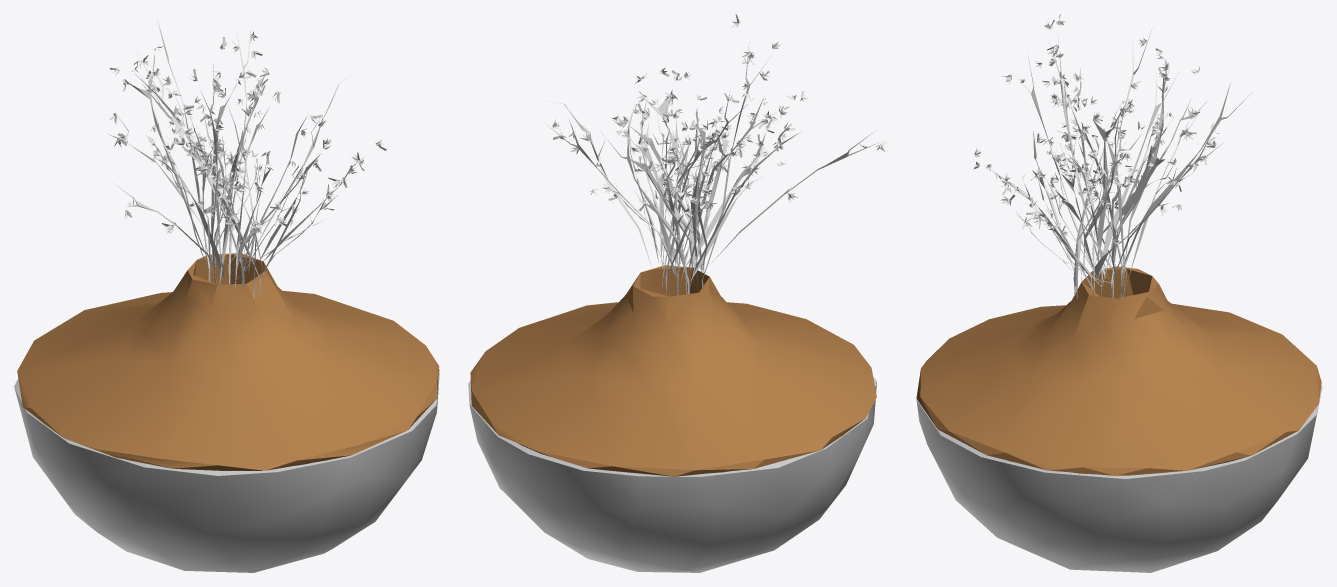
Rendered from NFG-I0014.glb.
3 views of the same model, side by side, from view 1: azimuth 30°, elevation 25°; view 2: azimuth 150°, elevation 25°; view 3: azimuth 270°, elevation 25° (orthographic). The views are drawn at different scales.
Parts seen in each view (by area): view 1: Ceramic and golden vase-02; view 2: Ceramic and golden vase-02; view 3: Ceramic and golden vase-02.
Part boxes in pixels (x1=…): Ceramic and golden vase-02: x1=14, y1=20, x2=439, y2=572; Ceramic and golden vase-02: x1=468, y1=14, x2=887, y2=572; Ceramic and golden vase-02: x1=916, y1=14, x2=1322, y2=572.
Size of the model in its own units: 1.45 by 1.96 by 1.45.
